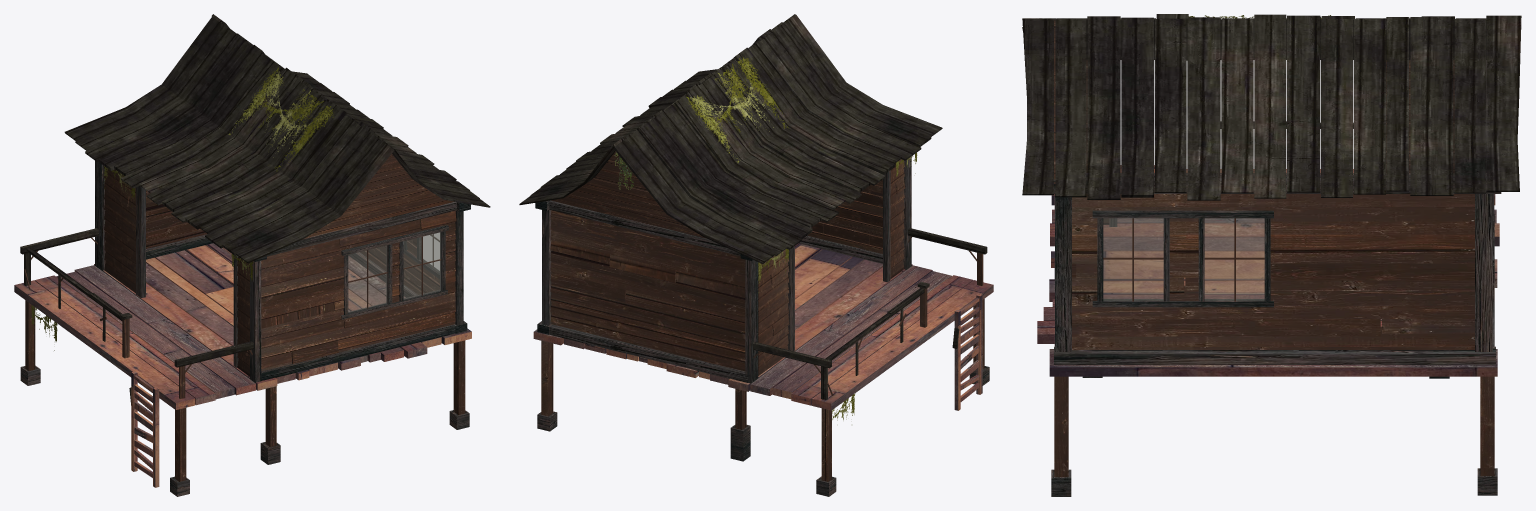
The model's file is office.glb.
3 views of the same model, side by side, from view 1: azimuth 30°, elevation 25°; view 2: azimuth 150°, elevation 25°; view 3: azimuth 270°, elevation 25° (orthographic). The views are drawn at different scales.
Parts seen in each view (by area): view 1: Object_4, Object_7, Object_5, Object_17, Object_48, Object_35; view 2: Object_4, Object_7, Object_5, Object_17, Object_35; view 3: Object_4, Object_7, Object_17, Object_5, Object_48.
Boxes of the visible parts, x1=… form: Object_4: x1=20, y1=14, x2=490, y2=405; Object_7: x1=24, y1=154, x2=465, y2=481; Object_5: x1=14, y1=243, x2=471, y2=487; Object_17: x1=20, y1=161, x2=470, y2=496; Object_48: x1=348, y1=232, x2=440, y2=312; Object_35: x1=31, y1=67, x2=333, y2=350; Object_4: x1=519, y1=14, x2=987, y2=399; Object_7: x1=541, y1=55, x2=984, y2=481; Object_5: x1=533, y1=243, x2=993, y2=410; Object_17: x1=535, y1=156, x2=989, y2=496; Object_35: x1=686, y1=57, x2=917, y2=420; Object_4: x1=1022, y1=14, x2=1521, y2=200; Object_7: x1=1054, y1=20, x2=1494, y2=476; Object_17: x1=1051, y1=60, x2=1501, y2=496; Object_5: x1=1037, y1=165, x2=1499, y2=376; Object_48: x1=1103, y1=218, x2=1264, y2=300.
Size of the model in its own units: 24.82 by 23.37 by 24.89.
7 materials, 6 textured.
